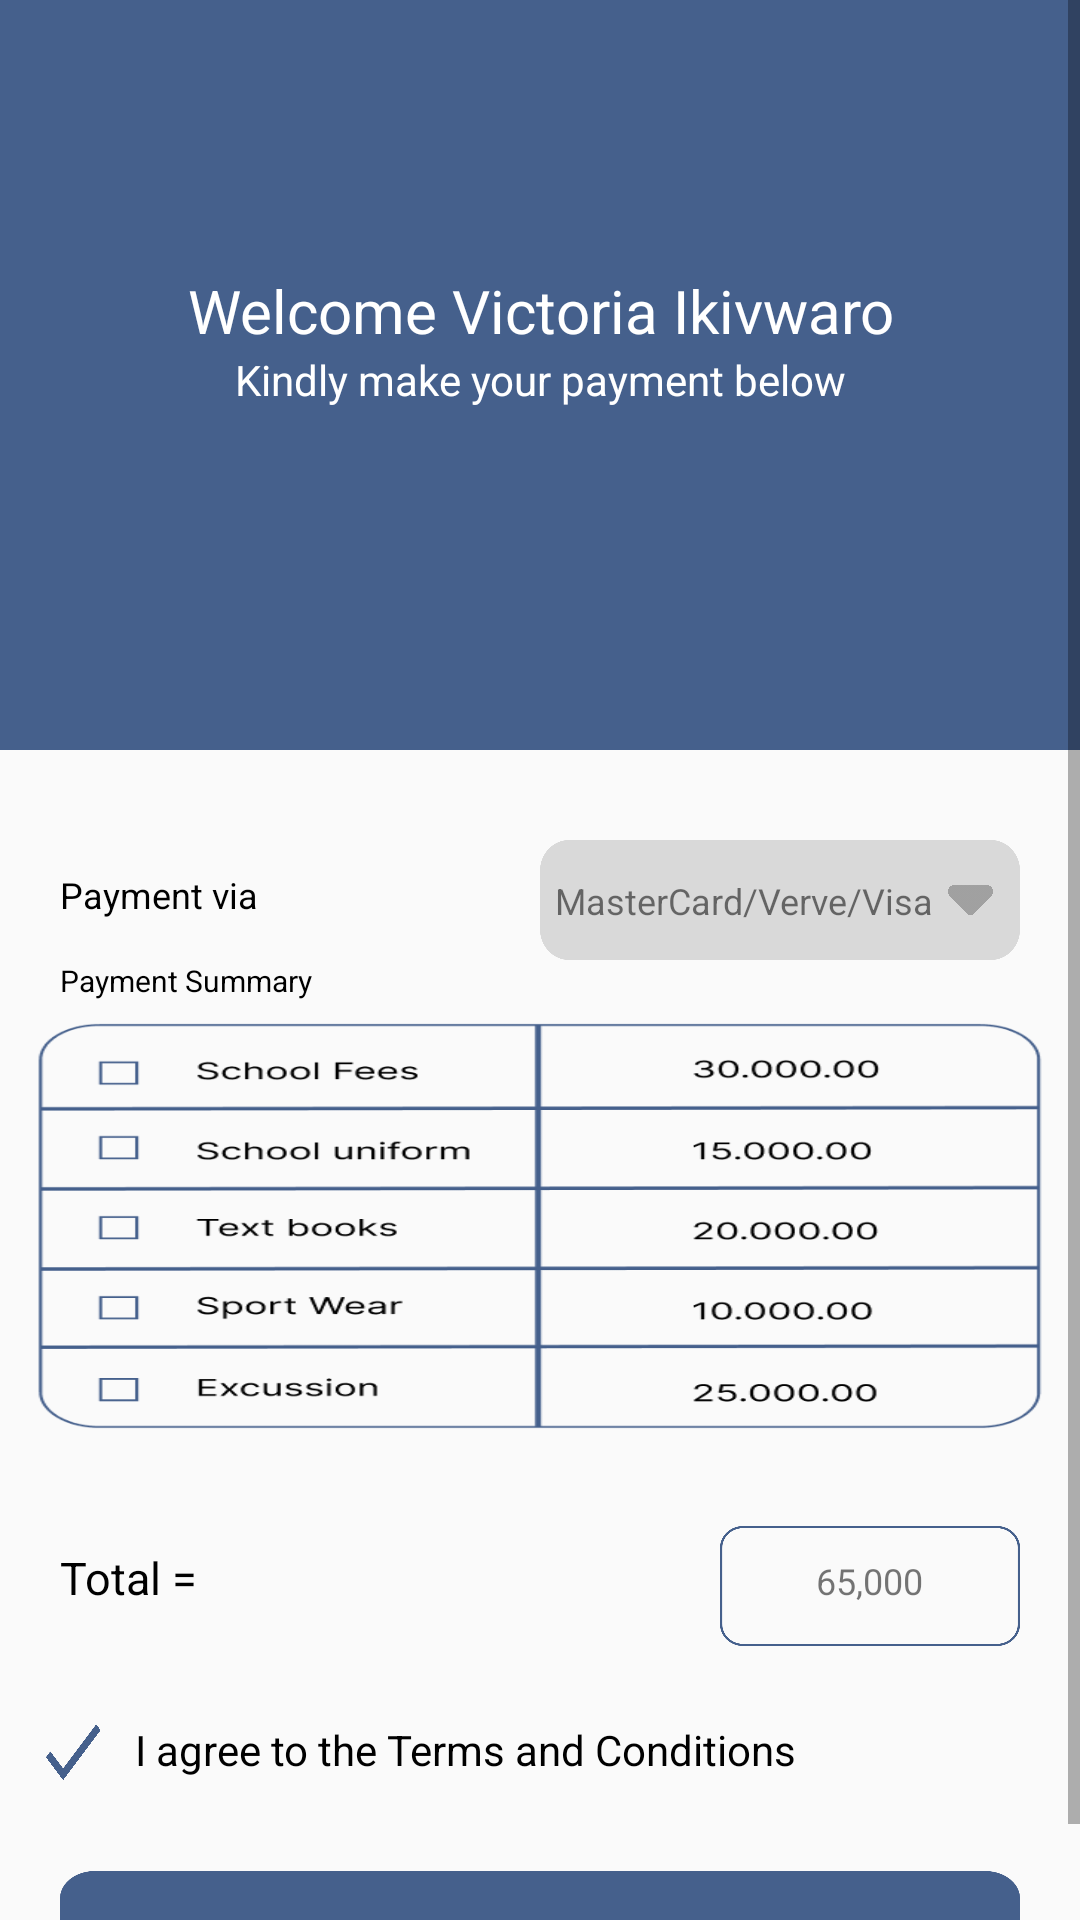

Icon bounding boxes for this 1080 x 1920 phone screenshot, format (x1, y1, x2, y2):
arrow down: (948, 885, 993, 915)
markki: (46, 1725, 100, 1780)
